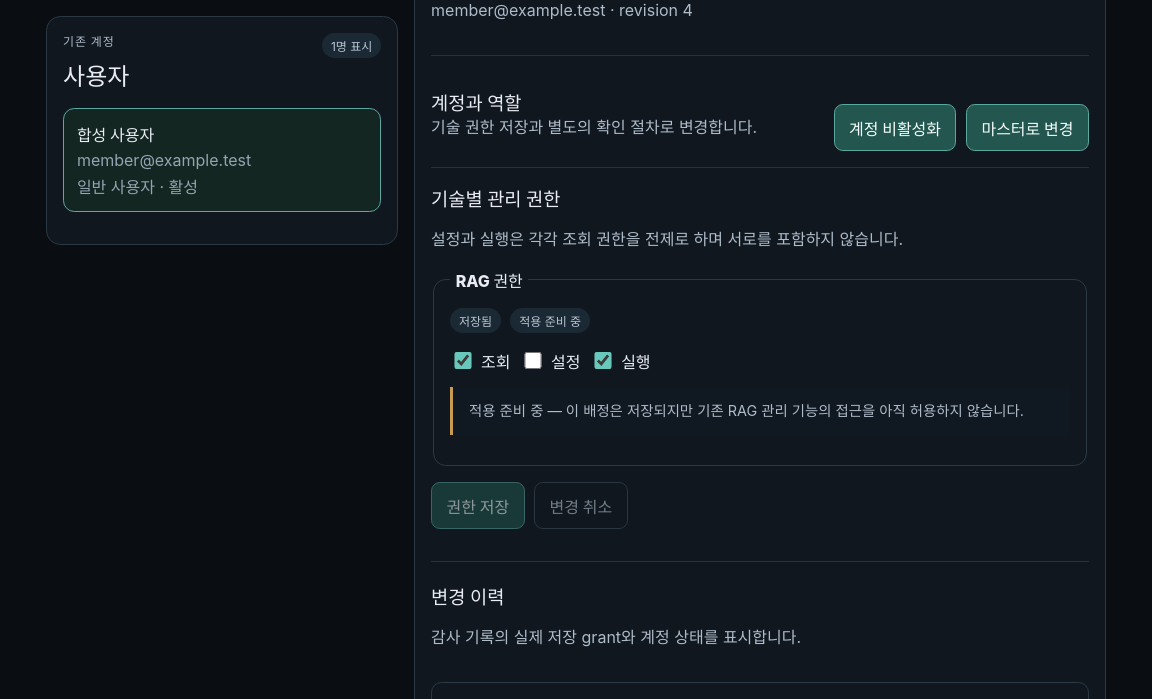
Test: refreshes stale authority on 409 without silently resubmitting
This screenshot has width=1152, height=699.
(page scrolled)
Click the checkbox labelled "설정".
click(533, 361)  # box 524,352 -> 542,370
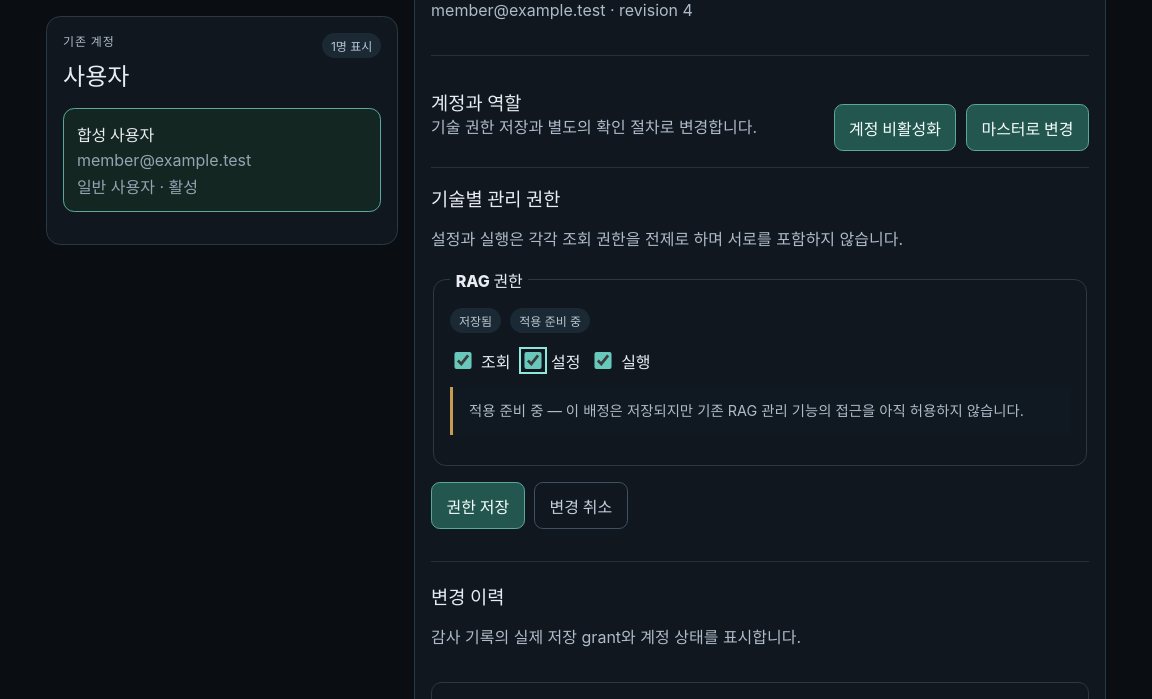
Click the button "권한 저장".
click(478, 506)  # box 431,482 -> 525,529
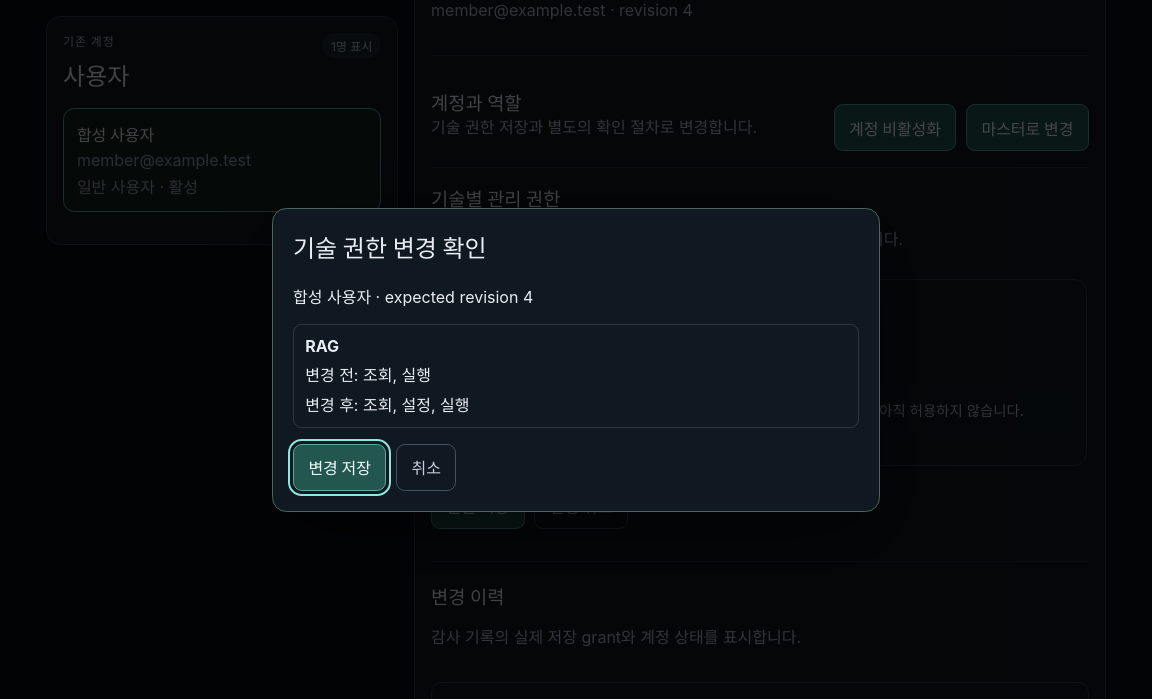
Click the button "변경 저장".
click(340, 467)  # box 293,444 -> 386,491
(page scrolled)
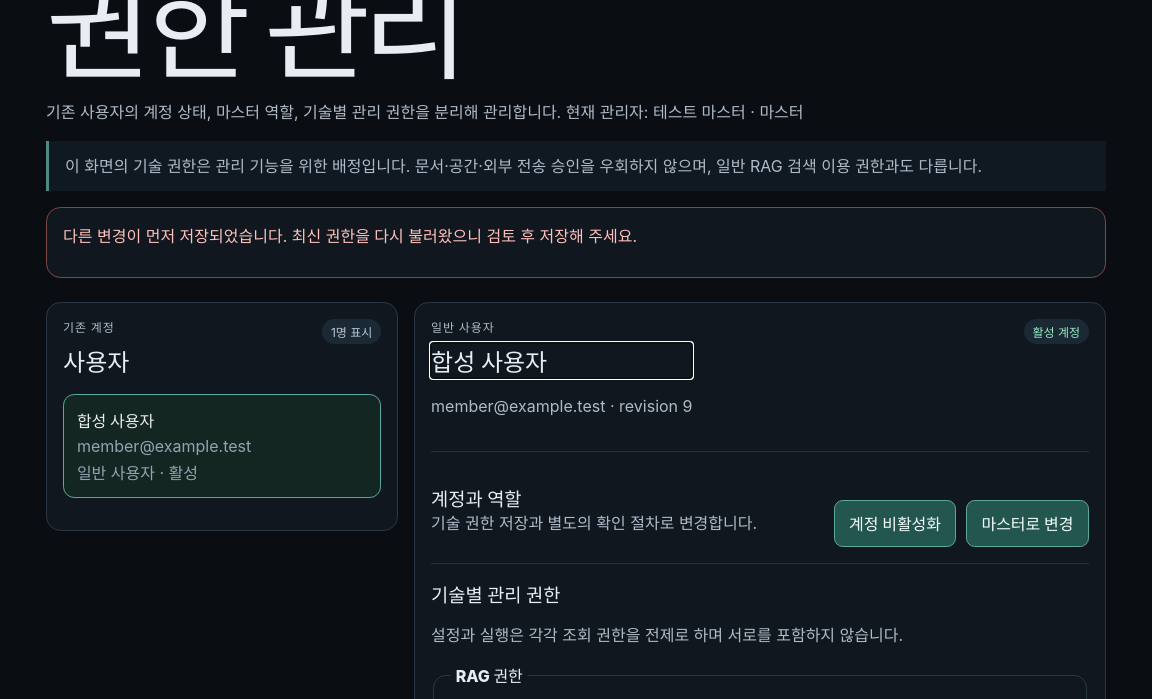
Check: the message shows "다른 변경이 먼저 저장되었습니다", box 63,226 -> 637,246
Check: the text "member@example.test · revision 9" is shown, box 431,394 -> 692,419
